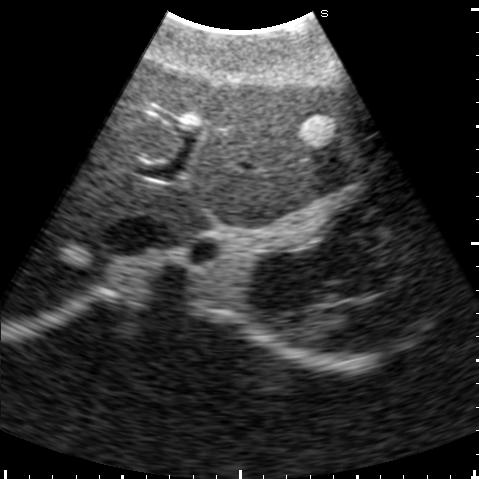IVC: (100, 214, 169, 256)
S1: (150, 187, 216, 240)
S2: (191, 141, 383, 230)
S3: (192, 84, 378, 187)
Tumor: (300, 117, 335, 150)
